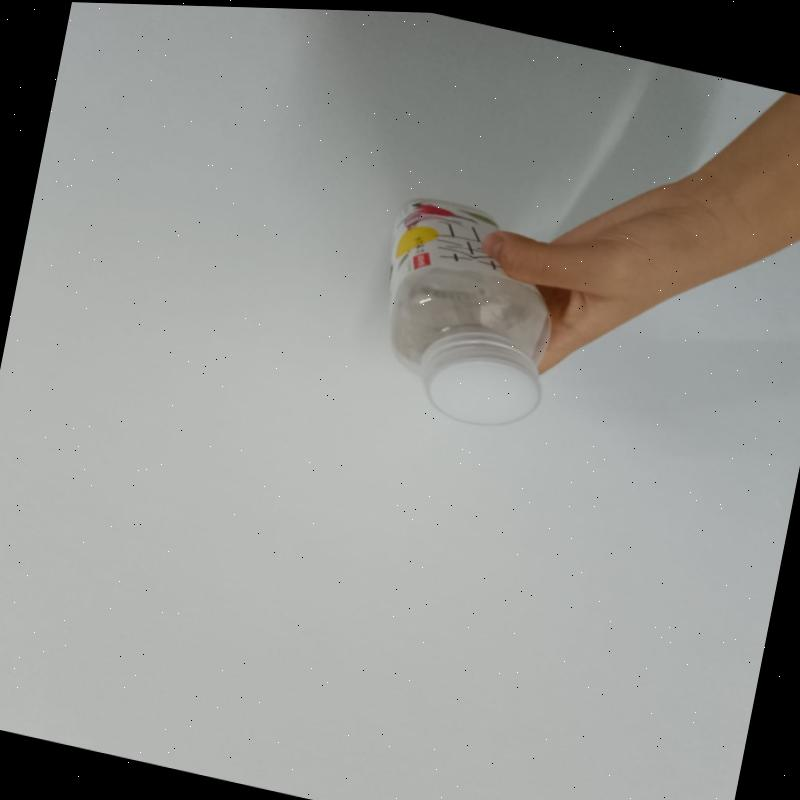botella: (352, 184, 572, 436)
